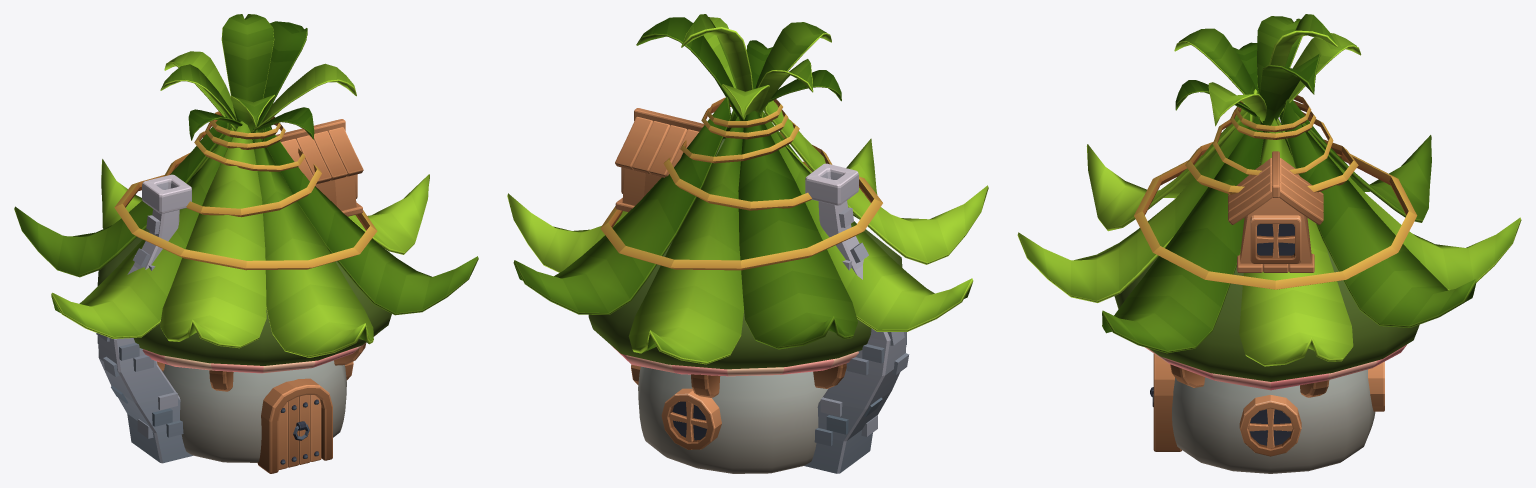
Rendered from mt_house20.fbx.
3 views of the same model, side by side, from view 1: azimuth 30°, elevation 25°; view 2: azimuth 150°, elevation 25°; view 3: azimuth 270°, elevation 25° (orthographic). The views are drawn at different scales.
Visible parts, largest first — view 1: h20; view 2: h20; view 3: h20.
Part boxes in pixels (x1,y1,x2,y2): h20: [14, 14, 478, 473]; h20: [507, 14, 988, 473]; h20: [1017, 14, 1521, 473].
Bounding box in the file's own units: 1066 × 989 × 1069.
